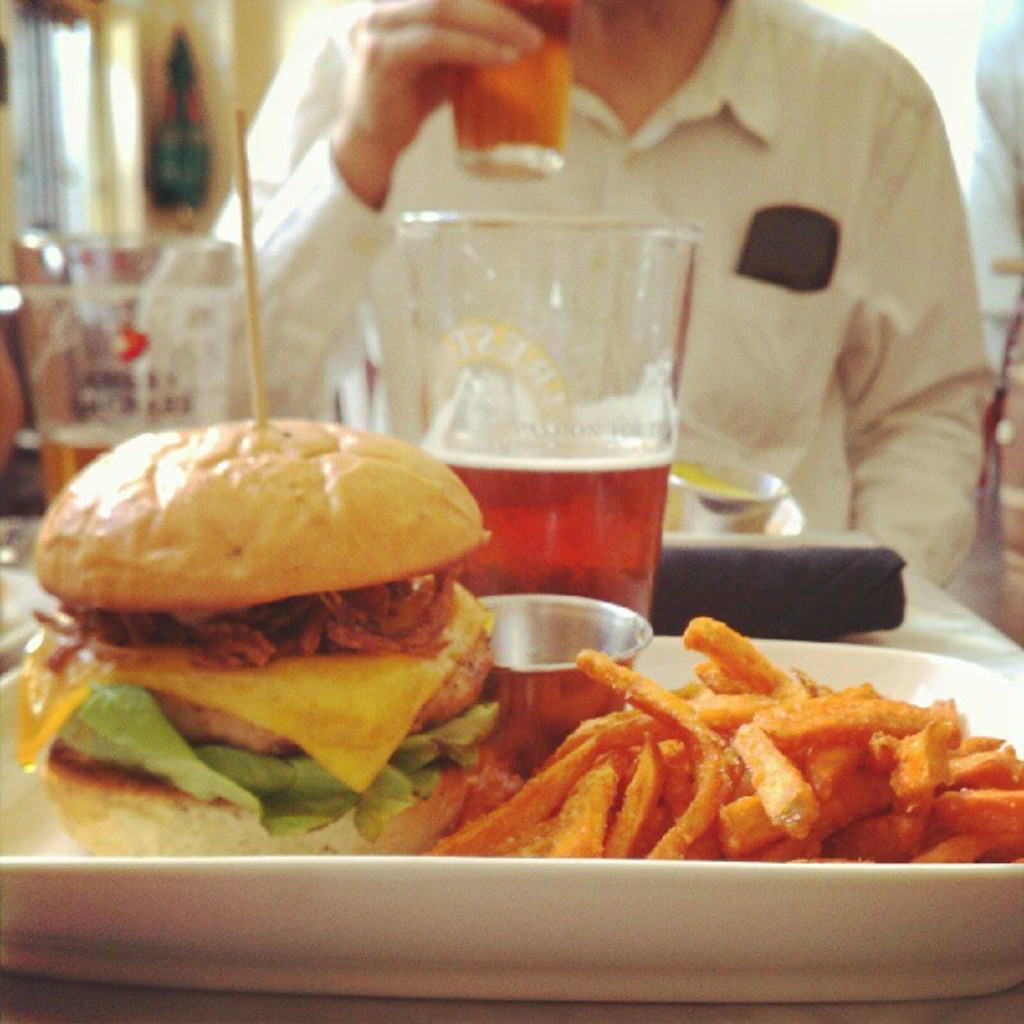French fries: (488, 627, 973, 870)
